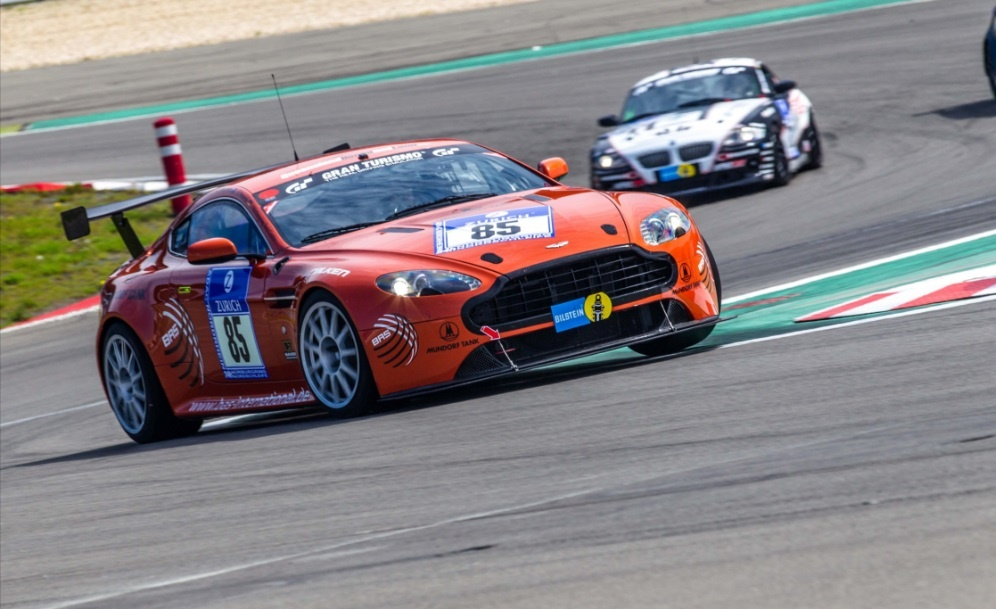racing car: (60, 137, 735, 429)
